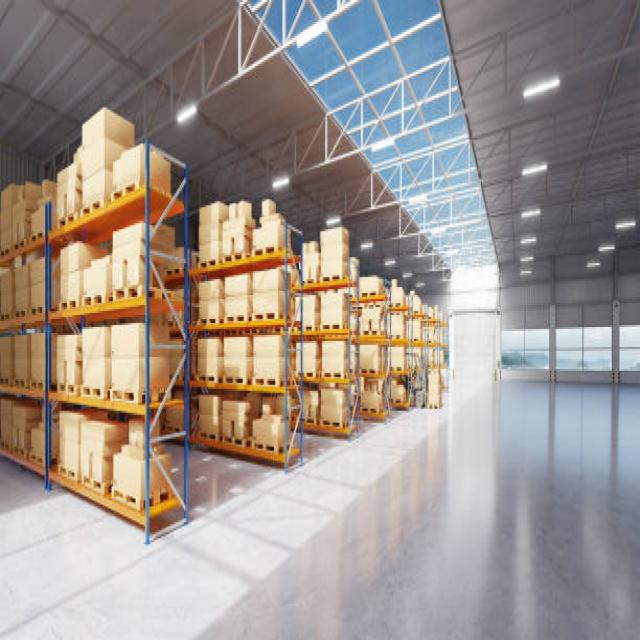Wooden-Pallets: (108, 484, 144, 510), (106, 383, 141, 408), (106, 184, 146, 204), (250, 438, 282, 462), (249, 239, 281, 259), (224, 308, 252, 330), (108, 287, 142, 305), (251, 374, 282, 388), (220, 248, 246, 264), (250, 308, 278, 321)
